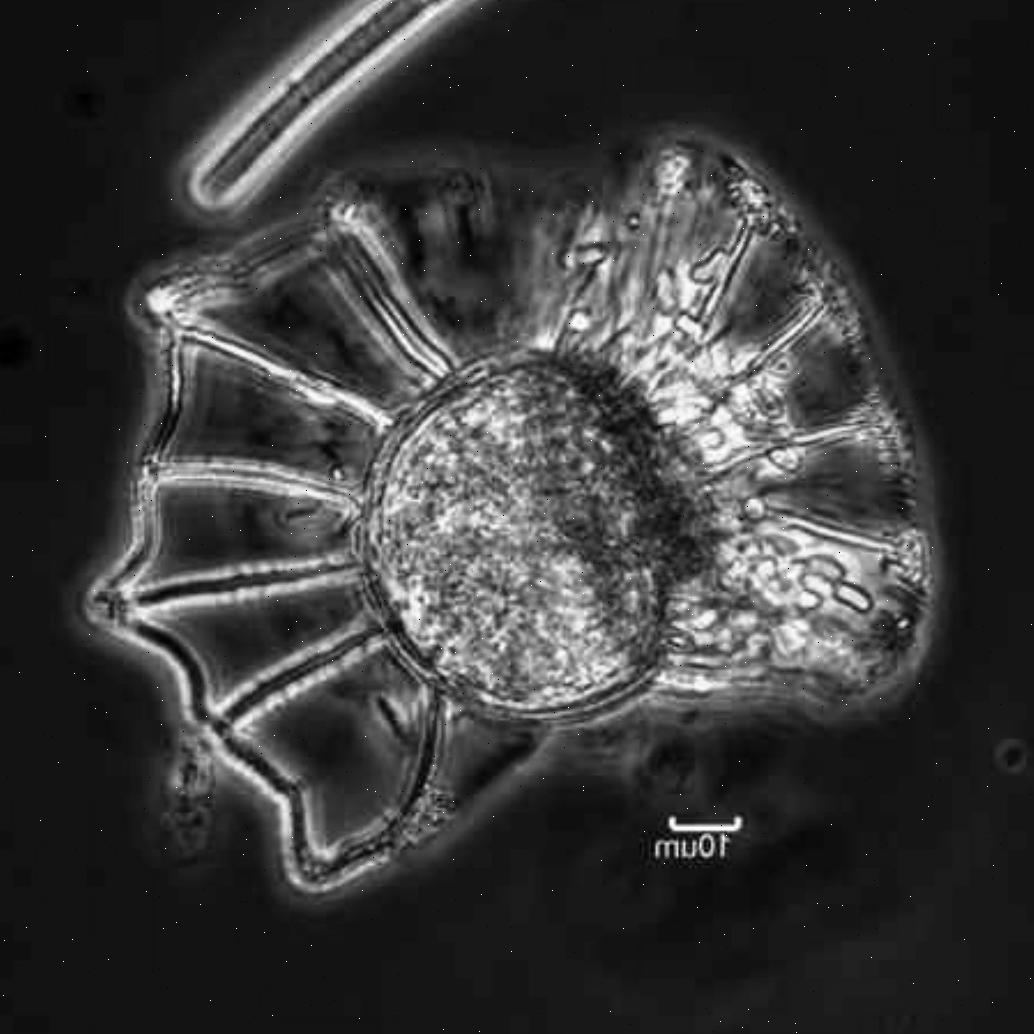ornithocercus_thumii: (78, 129, 937, 890)
